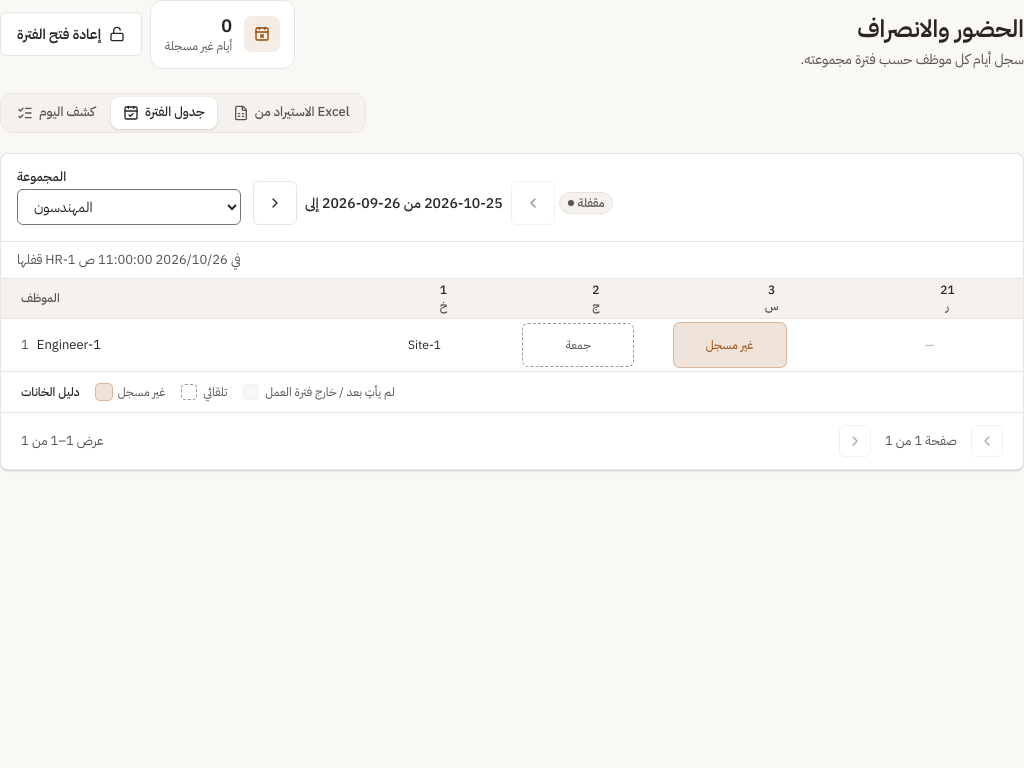
reopen sends the reason
Check: the text "قفلها HR-1 في 26 /10 /2026 11:00:00 ص" is shown, box [1, 242, 1023, 279]
Click the button "إعادة فتح الفترة" at (71, 34), box [0, 12, 142, 56]
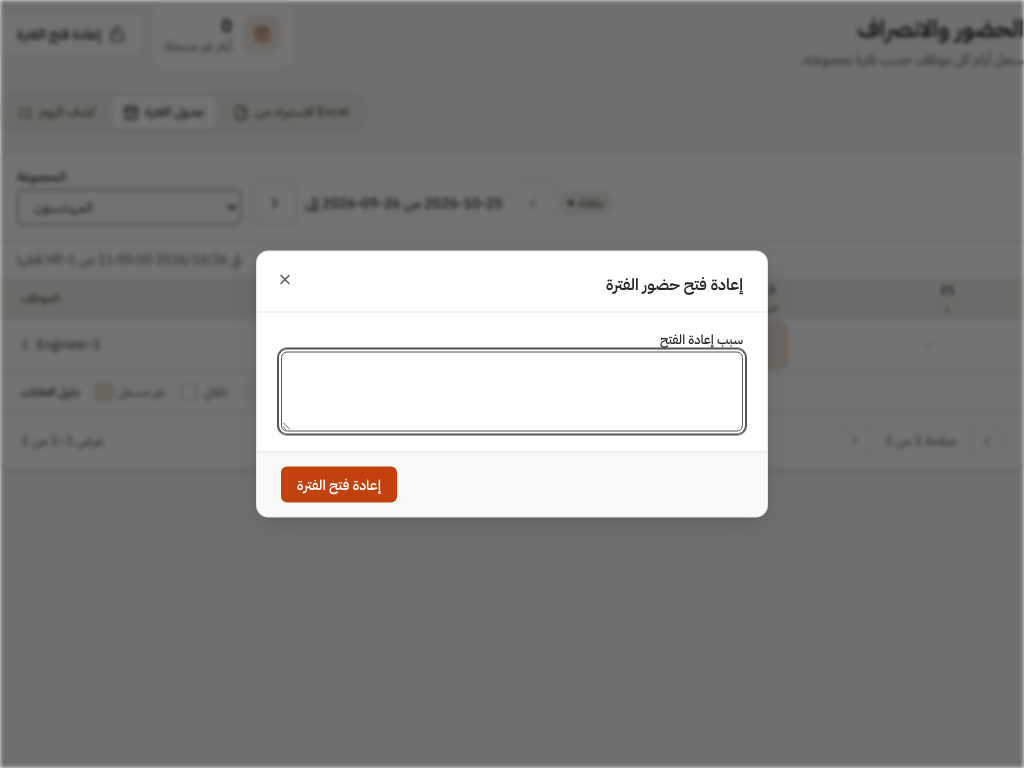
Type "Correction" into the text box labelled "سبب إعادة الفتح" at (512, 392), box [281, 352, 743, 432]
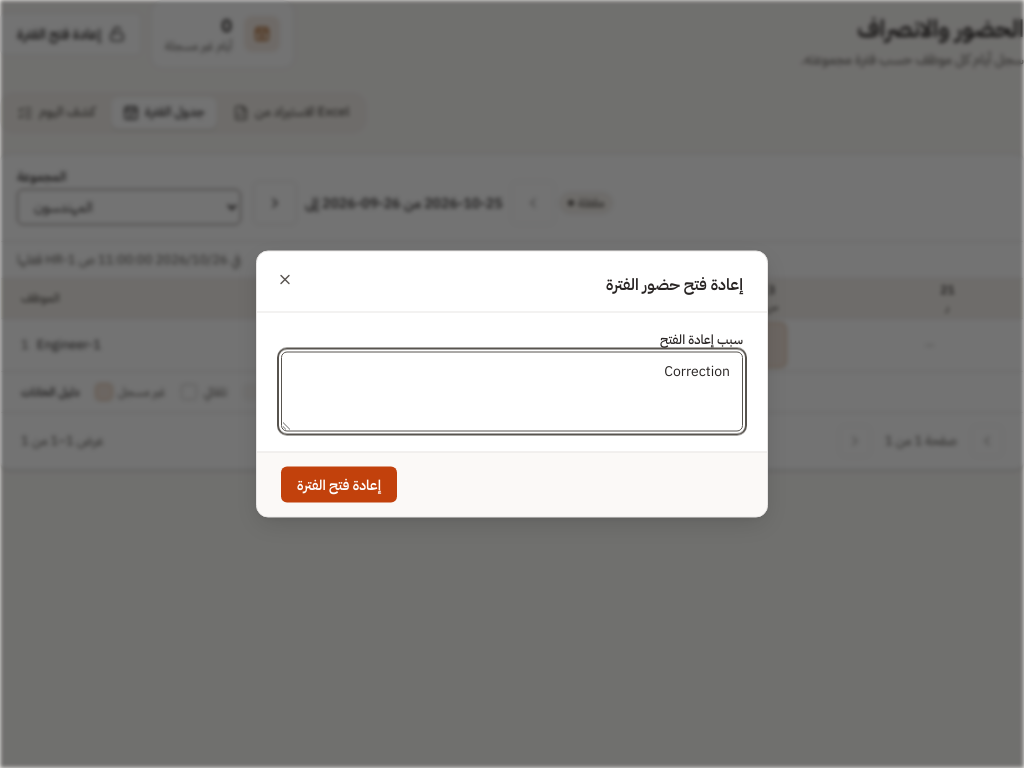
Click the button "إعادة فتح الفترة" at (339, 484), box [281, 466, 397, 502]
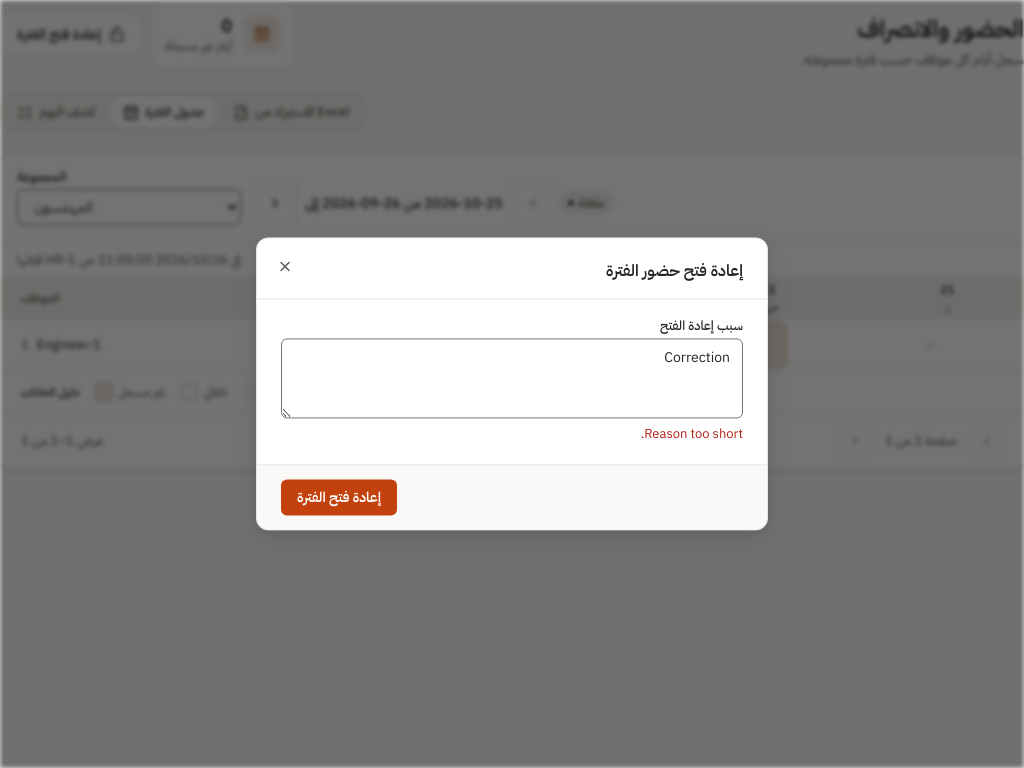
Check: the text "Reason too short." is shown, box [641, 425, 743, 442]
